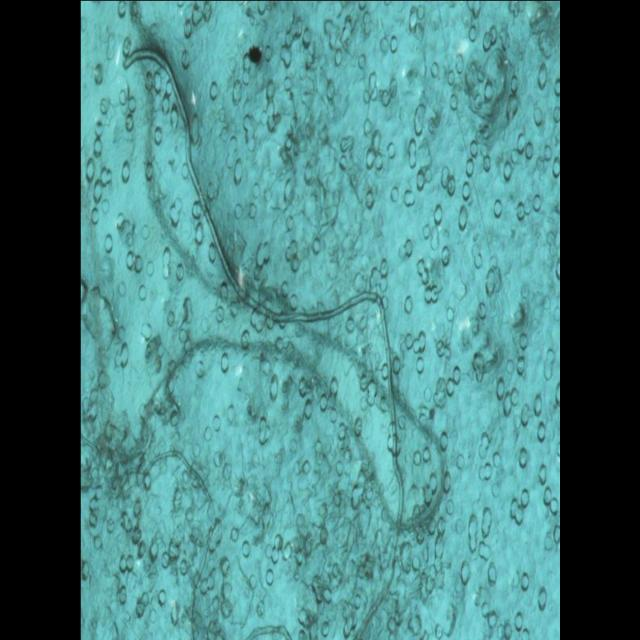Fibre: (92, 36, 456, 640)
